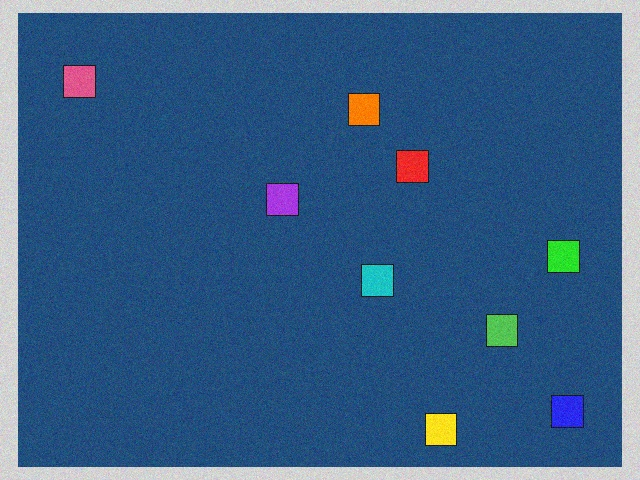block: (539, 387, 583, 427), (64, 65, 108, 105), (419, 404, 457, 445), (477, 310, 518, 346), (535, 241, 580, 273), (392, 151, 428, 186), (347, 93, 380, 131), (266, 183, 300, 217), (359, 264, 393, 297)
